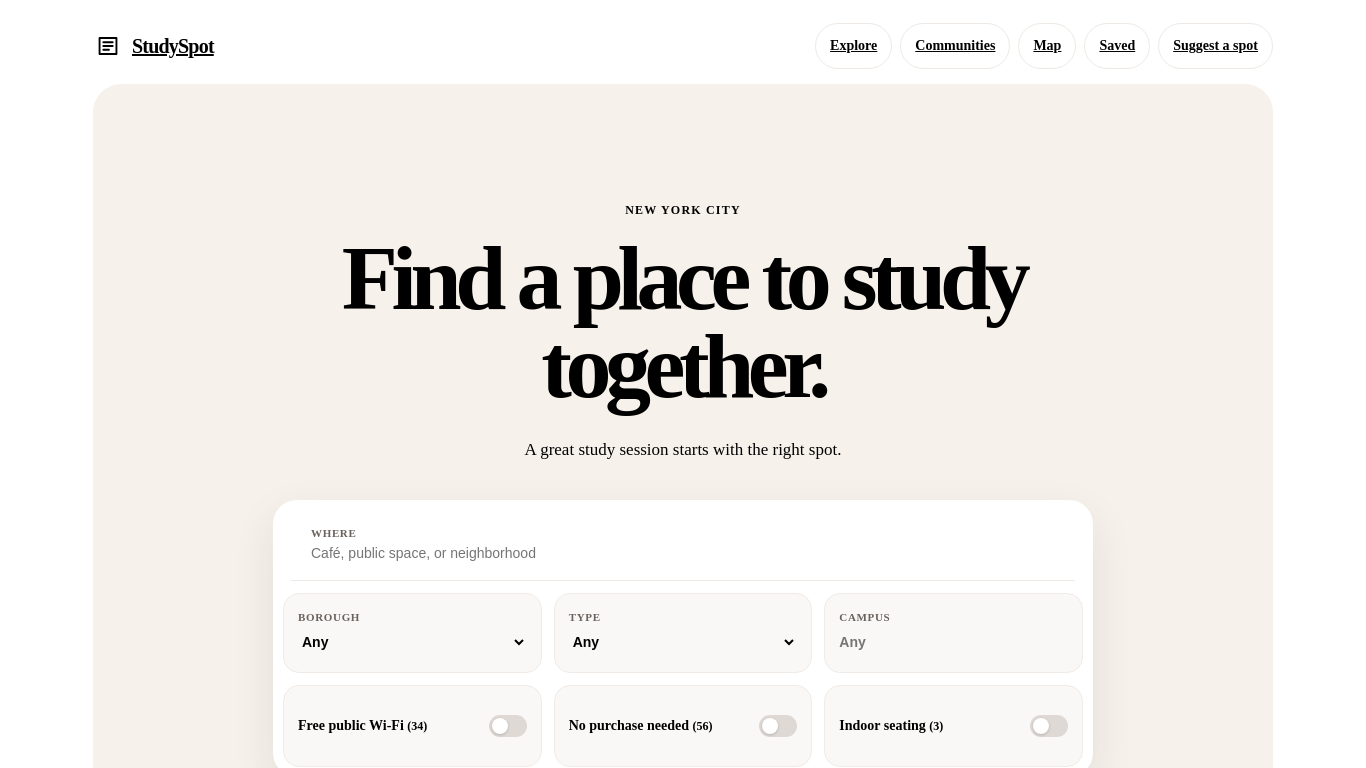
Test: typing into the box › searches once the typing pauses, with nothing submitted
In the field labelled "Where": (625, 553) [311,544,939,563], type "library"
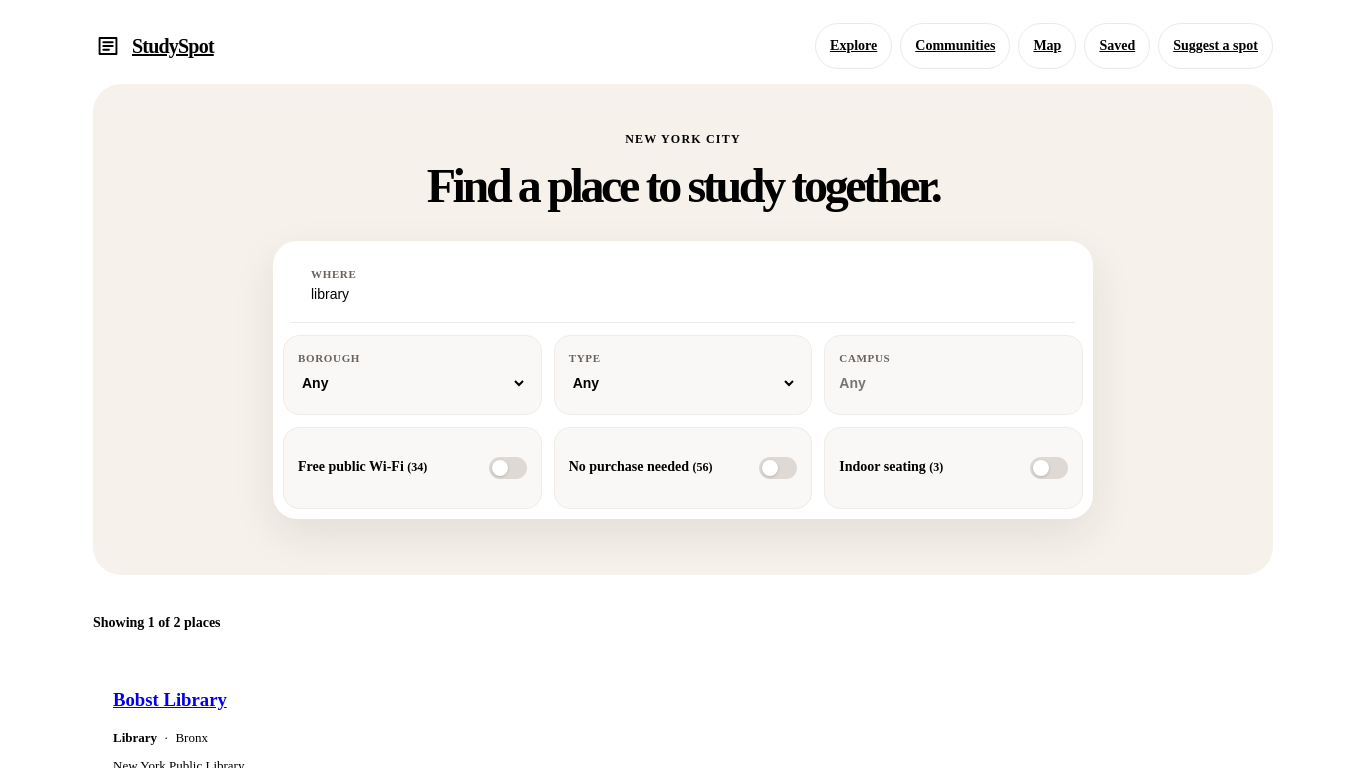
Result: the link "Bobst Library" is shown at [113,689,227,710]
